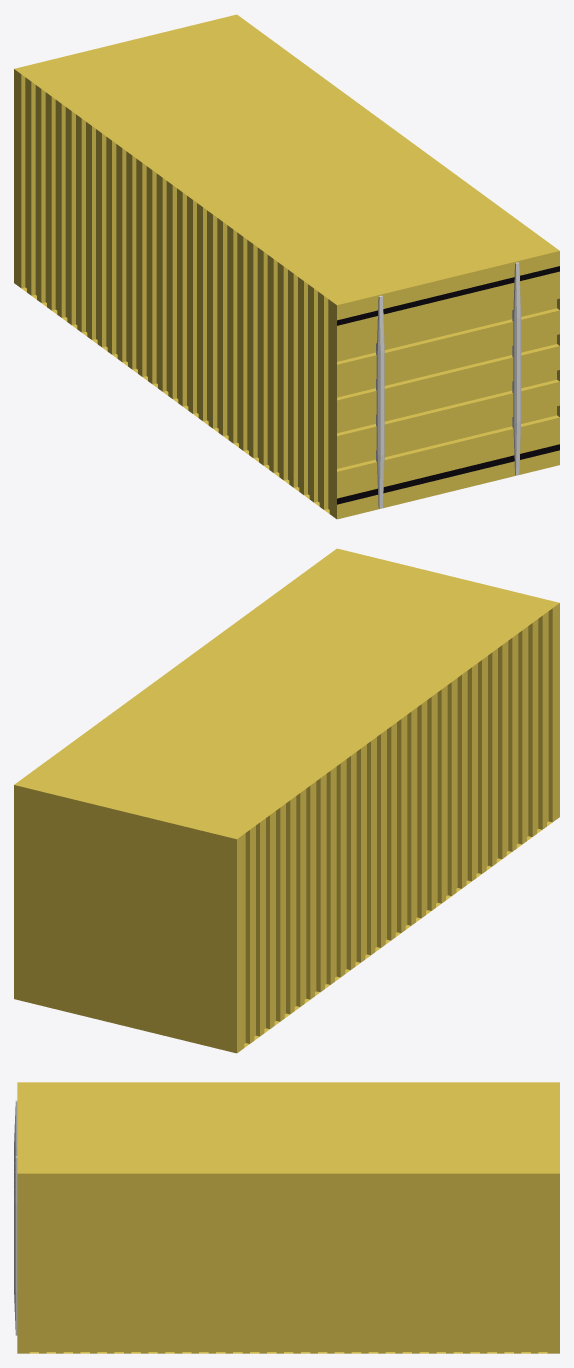
Rendered from yellowcontainer.fbx.
3 renders of one model, top to bottom at view 1: azimuth 30°, elevation 25°; view 2: azimuth 150°, elevation 25°; view 3: azimuth 270°, elevation 25°, orthographic. The views are drawn at different scales.
Parts seen in each view (by area): view 1: Cube.010, Cube.008, Cube.009; view 2: Cube.010; view 3: Cube.010, Cube.008.
Part boxes in pixels (box(x1,y1,x2,y2)): Cube.010: box(14, 14, 559, 519); Cube.008: box(512, 262, 521, 475); Cube.009: box(376, 295, 384, 508); Cube.010: box(14, 548, 559, 1053); Cube.010: box(17, 1082, 559, 1353); Cube.008: box(14, 1156, 17, 1335).
Bounding box in the file's own units: 825 × 300 × 327.
